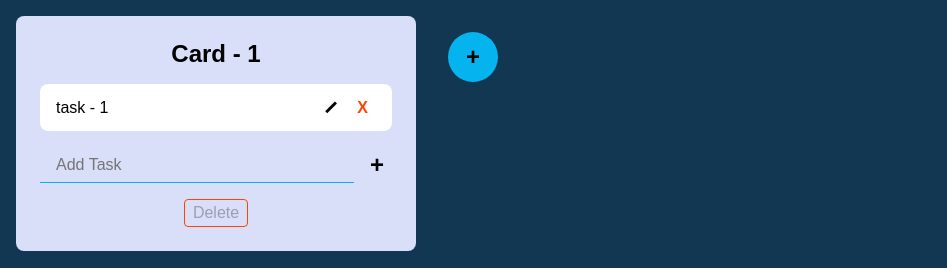
Test: adds new columns
Step 1. Click the button with test id "btn-add-column" → x=473, y=57, box [448,32,498,82]
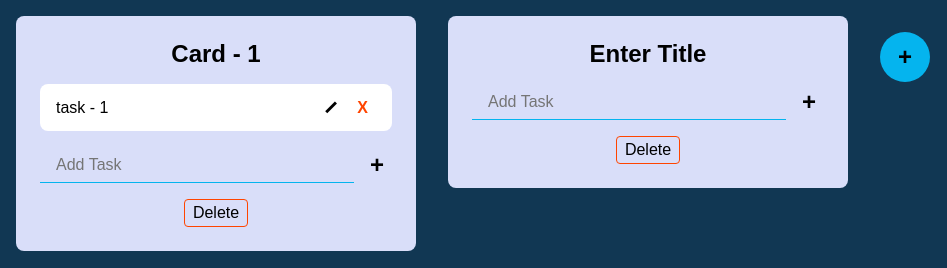
Check: the number of headings is 2, box [171,40,261,67]; [590,40,706,67]
